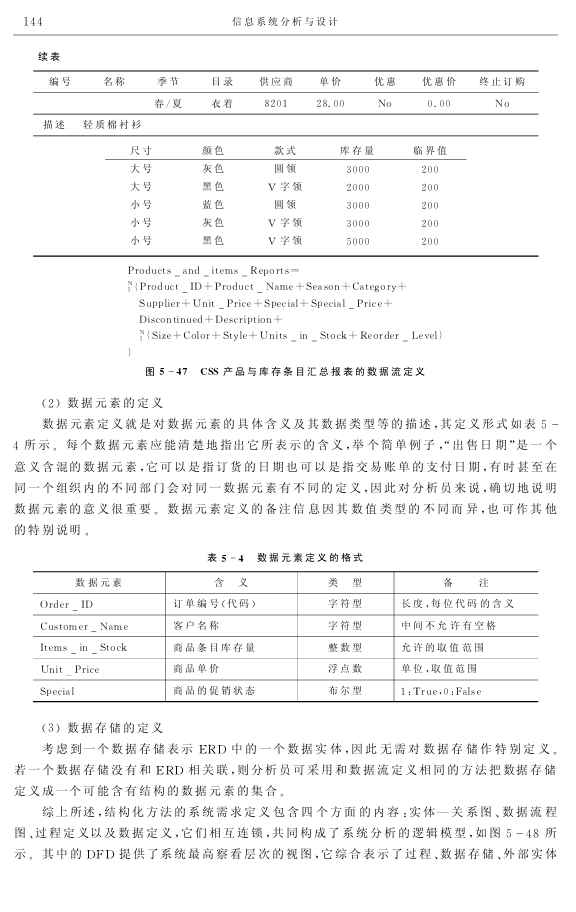table: (33, 69, 539, 257), (32, 570, 539, 703)
